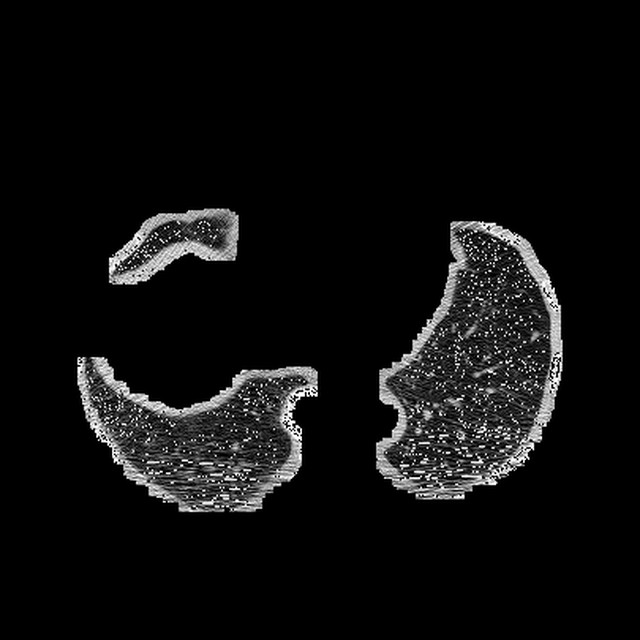PN: (531, 332, 537, 338)
